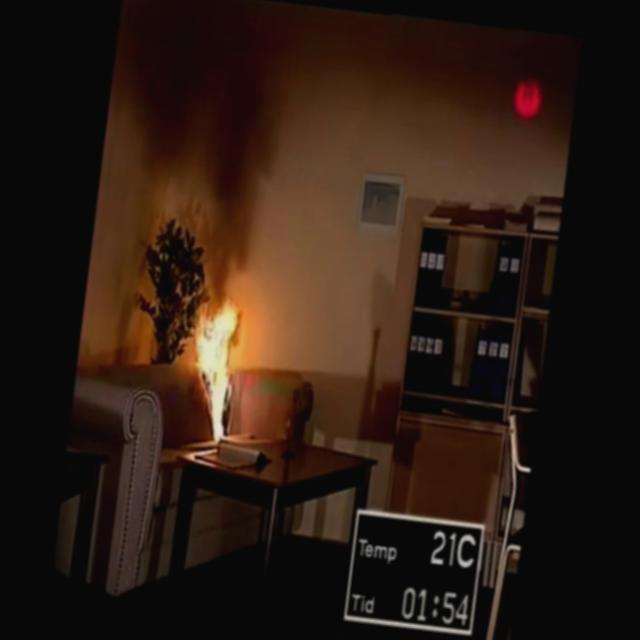fire: (182, 292, 256, 461)
